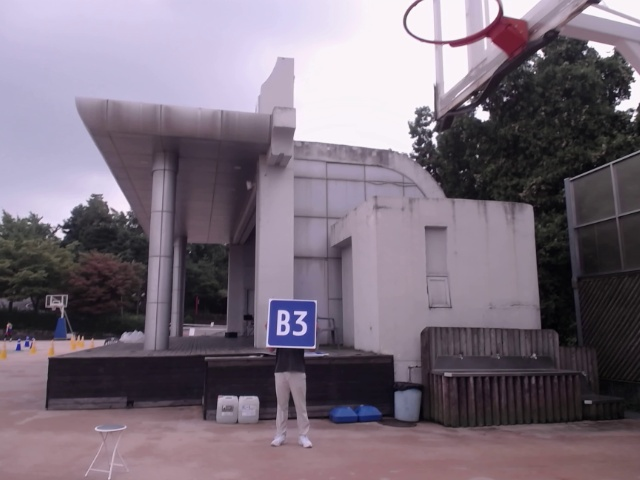delivery_b3: (269, 298, 317, 349)
